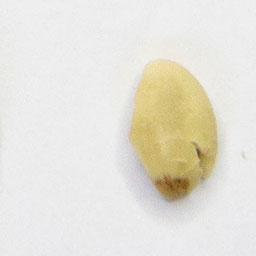defect: (126, 55, 221, 204)
